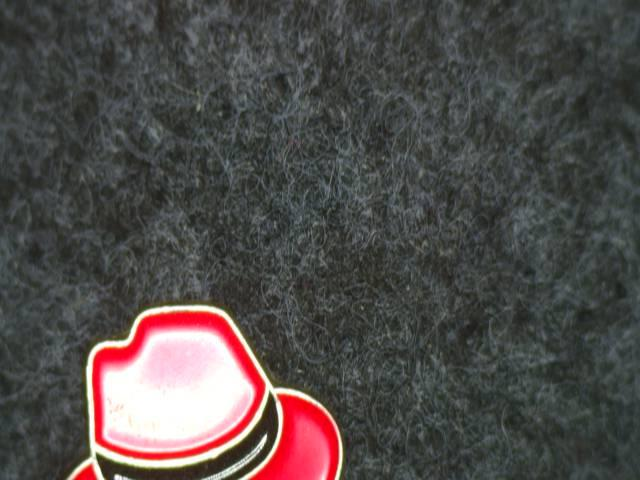Red-Hat: (30, 293, 362, 480)
